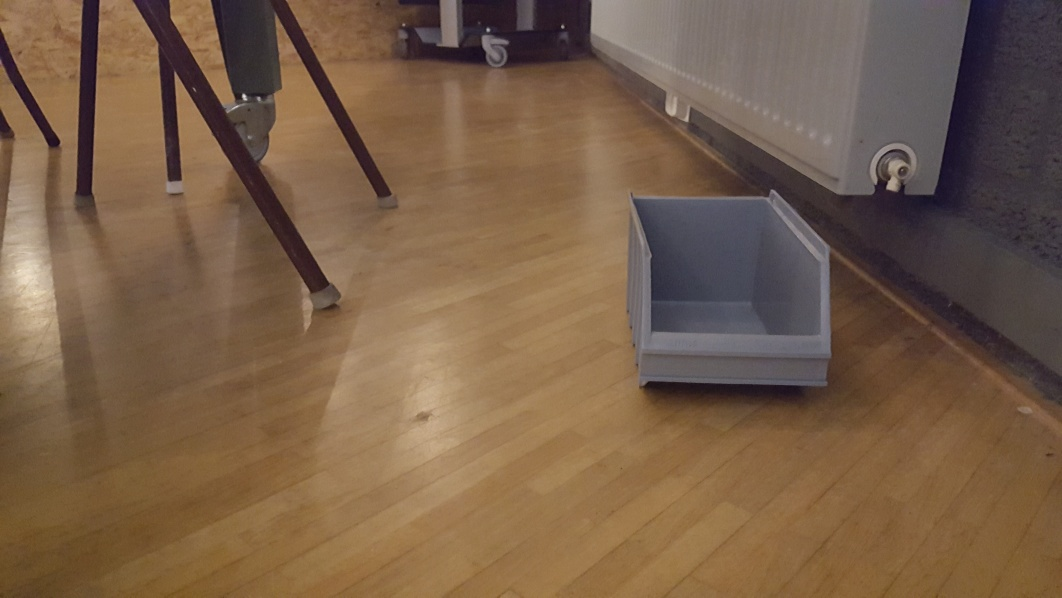tray: (622, 187, 834, 393)
